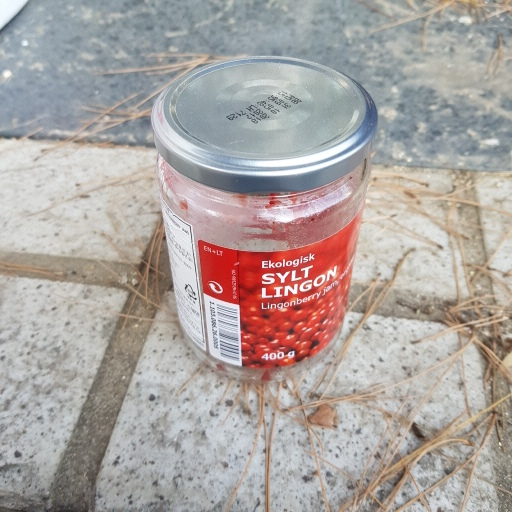Glass_5: (149, 54, 381, 368)
